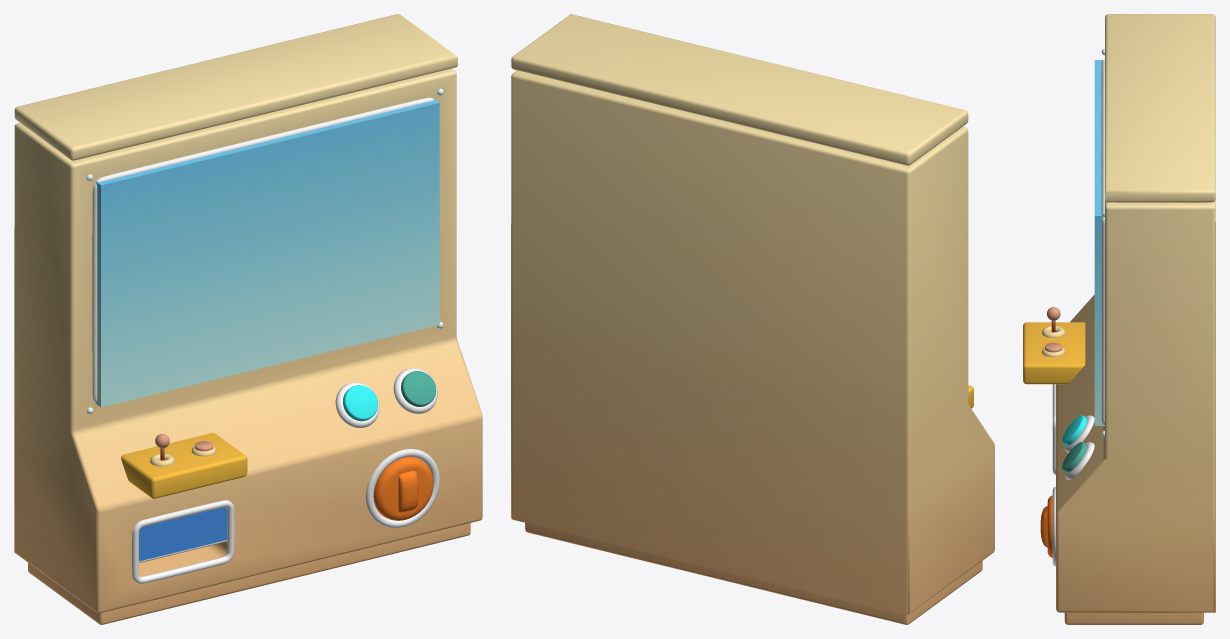
Rendered from cm body.fbx.
3 views of the same model, side by side, from view 1: azimuth 30°, elevation 25°; view 2: azimuth 150°, elevation 25°; view 3: azimuth 270°, elevation 25° (orthographic). The views are drawn at different scales.
Parts seen in each view (by area): view 1: cm body, cm plate, cm switch, cm btn big.001, cm btn big; view 2: cm body; view 3: cm body, cm switch, cm btn big, cm btn big.001.
Boxes of the visible parts, x1=… form: cm body: x1=14, y1=14, x2=482, y2=624; cm plate: x1=139, y1=507, x2=227, y2=562; cm switch: x1=373, y1=457, x2=433, y2=520; cm btn big.001: x1=401, y1=371, x2=436, y2=406; cm btn big: x1=343, y1=385, x2=377, y2=421; cm body: x1=511, y1=14, x2=994, y2=624; cm body: x1=1023, y1=14, x2=1215, y2=624; cm switch: x1=1040, y1=495, x2=1052, y2=557; cm btn big: x1=1062, y1=415, x2=1087, y2=445; cm btn big.001: x1=1062, y1=442, x2=1087, y2=472.
Bounding box in the file's own units: 244 × 280 × 112.
